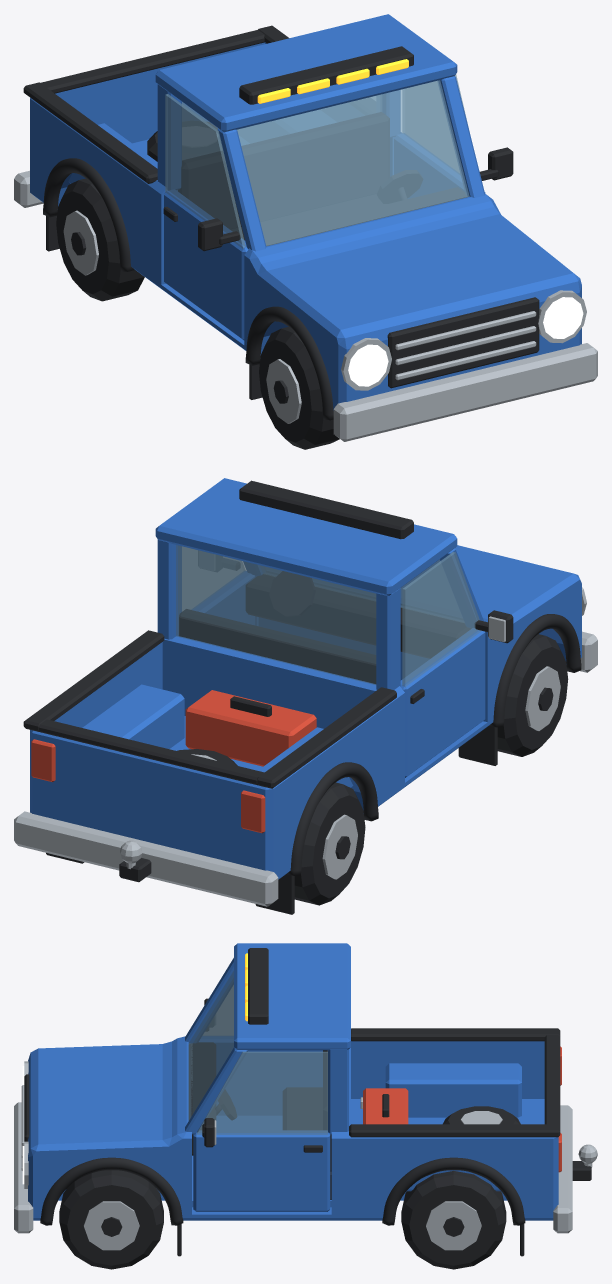
Rendered from blue-pickup-truck.glb.
3 renders of one model, top to bottom at view 1: azimuth 30°, elevation 25°; view 2: azimuth 150°, elevation 25°; view 3: azimuth 270°, elevation 25°, orthographic. The views are drawn at different scales.
Visible parts, largest first — view 1: Truck_Body, Door_Right, Wheel_RR, Wheel_FR, Door_Left; view 2: Truck_Body, Door_Right, Wheel_RR, Wheel_FR, Door_Left; view 3: Truck_Body, Door_Left, Wheel_FL, Wheel_RL, Door_Right.
Part boxes in pixels (x1,y1,x2,y2): Truck_Body: [14, 14, 597, 441]; Door_Right: [163, 94, 248, 340]; Wheel_RR: [56, 178, 144, 301]; Wheel_FR: [259, 327, 339, 449]; Door_Left: [394, 74, 513, 198]; Truck_Body: [14, 478, 597, 914]; Door_Right: [400, 552, 513, 777]; Wheel_RR: [294, 782, 365, 905]; Wheel_FR: [497, 634, 568, 756]; Door_Left: [182, 547, 254, 624]; Truck_Body: [14, 943, 597, 1256]; Door_Left: [193, 1051, 330, 1211]; Wheel_FL: [59, 1170, 163, 1269]; Wheel_RL: [401, 1171, 506, 1269]; Door_Right: [199, 985, 322, 1115].
Bounding box in the file's own units: 8.7 × 7.55 × 16.73.
